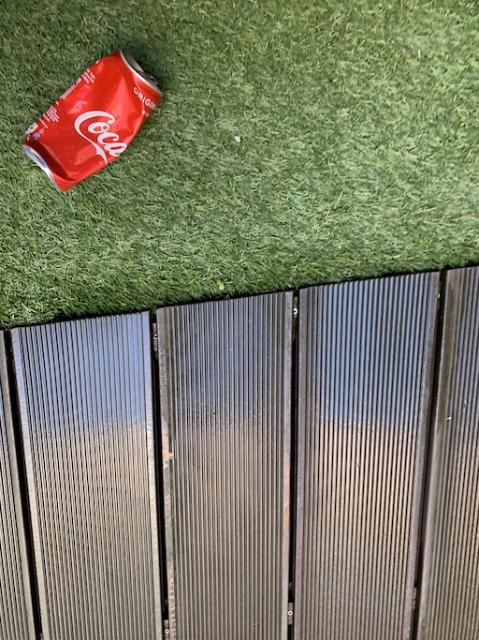metal: (2, 267, 476, 638)
